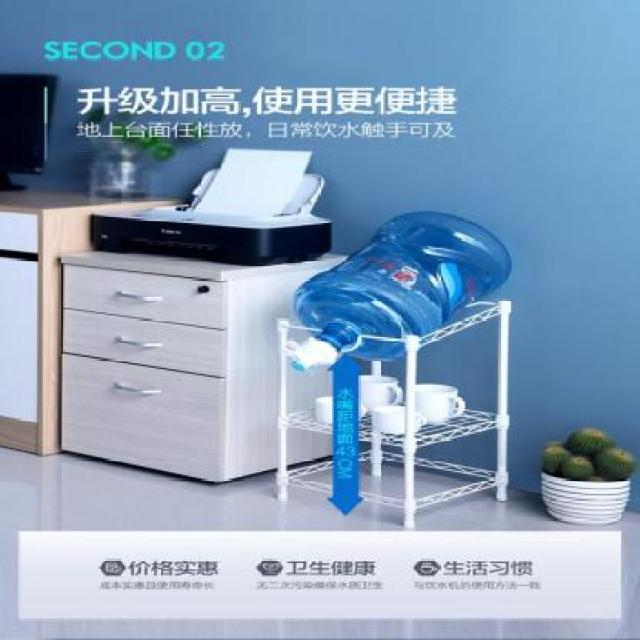coolerbottle: (288, 206, 520, 364)
